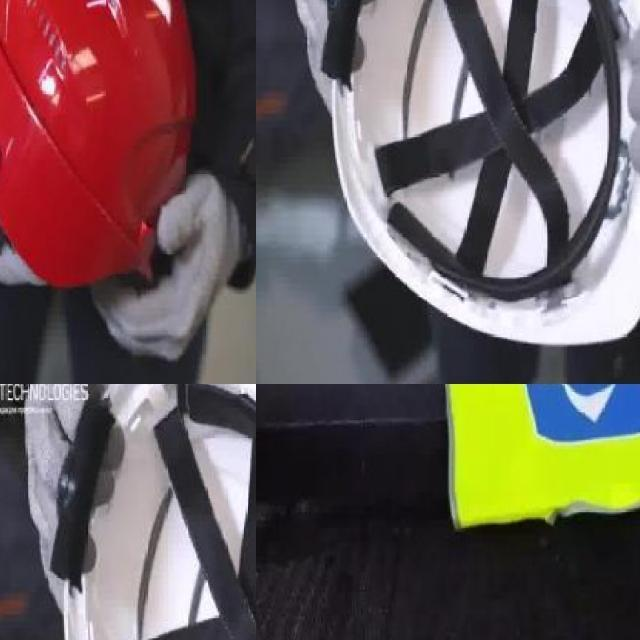apron: (90, 164, 244, 366), (21, 384, 127, 615), (0, 0, 46, 286), (287, 0, 393, 120)
